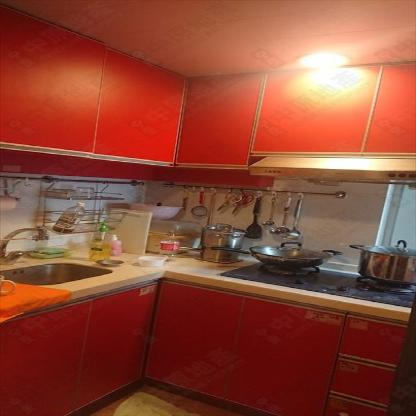Cupboard: (1, 1, 415, 169), (0, 280, 411, 415)
Exhaust Hood: (246, 156, 415, 180)
Faucet: (2, 227, 45, 263)
Sink: (3, 263, 110, 284)
Stove: (214, 260, 415, 307)
